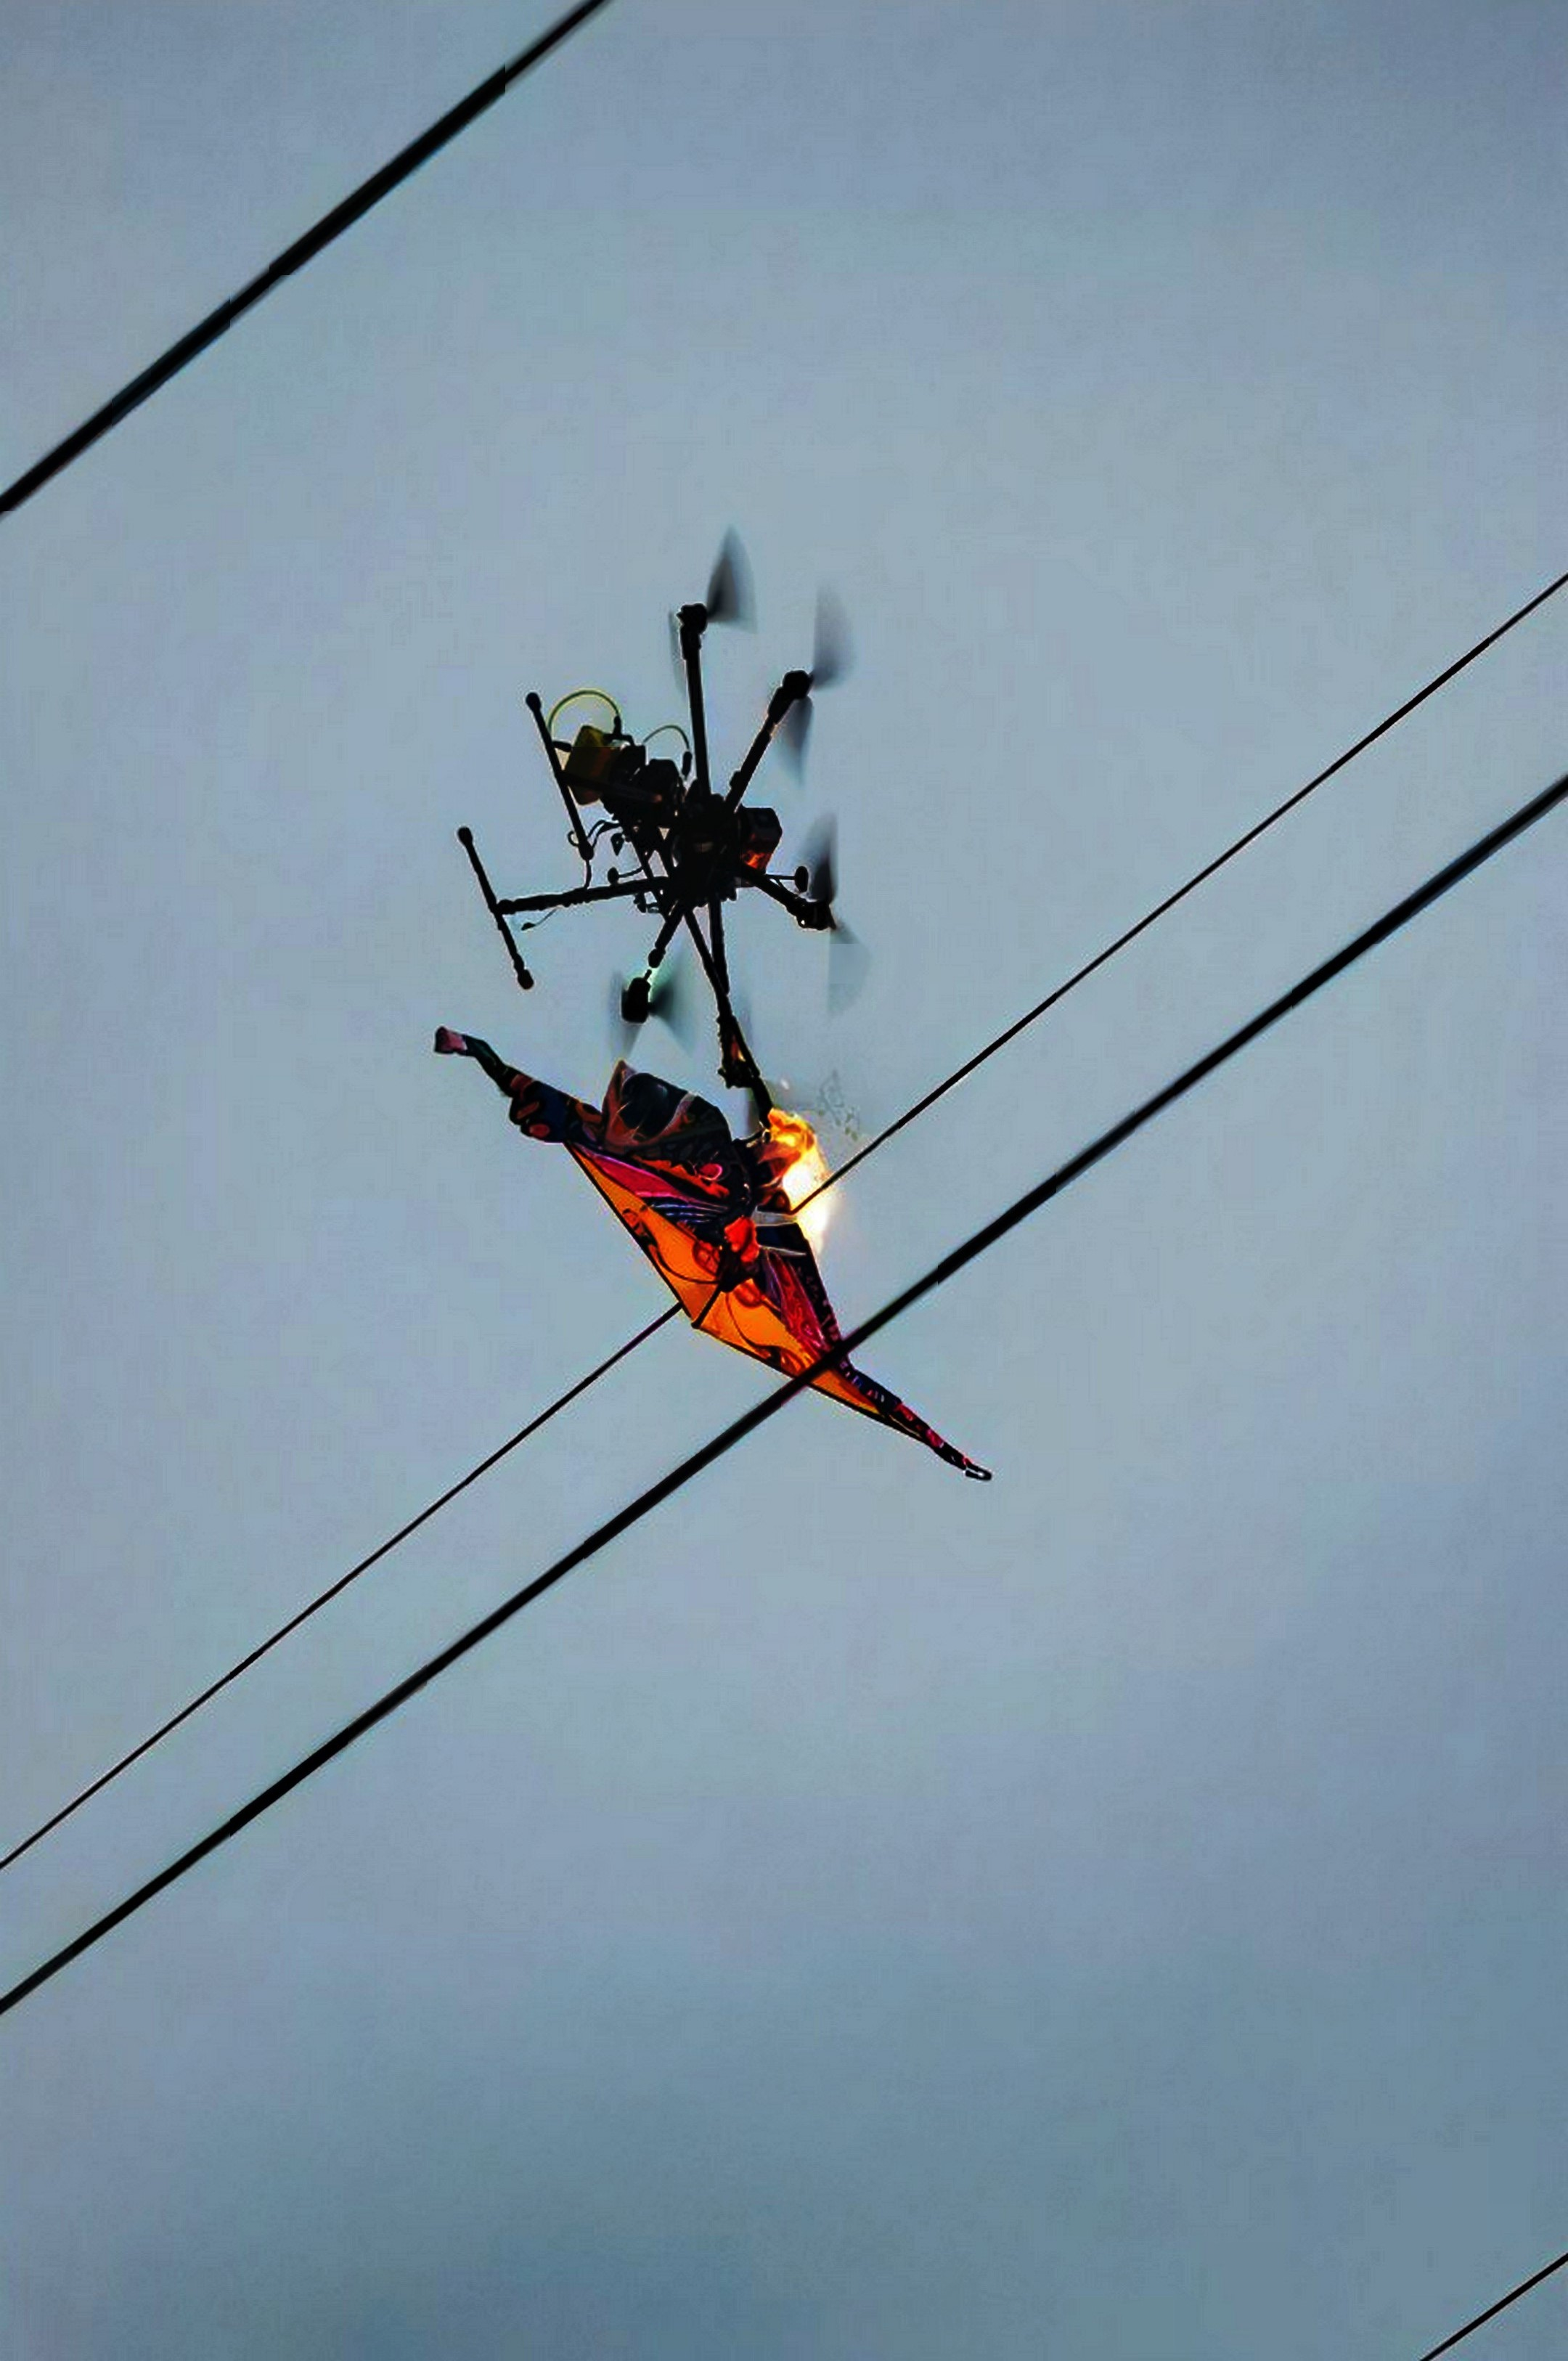wire foreign body: (418, 987, 999, 1535)
